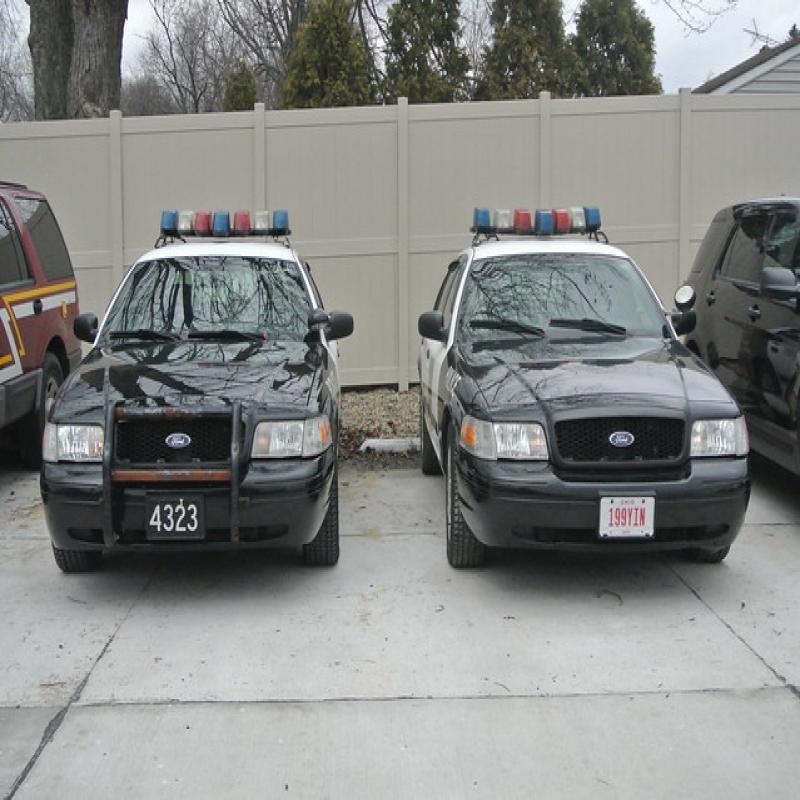AmbulanceSiren: (149, 198, 299, 248), (459, 196, 613, 242)
